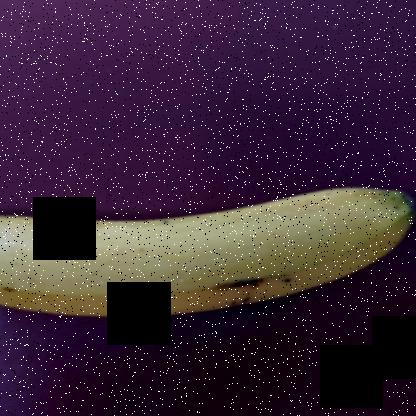freshripe: (1, 179, 408, 337)
